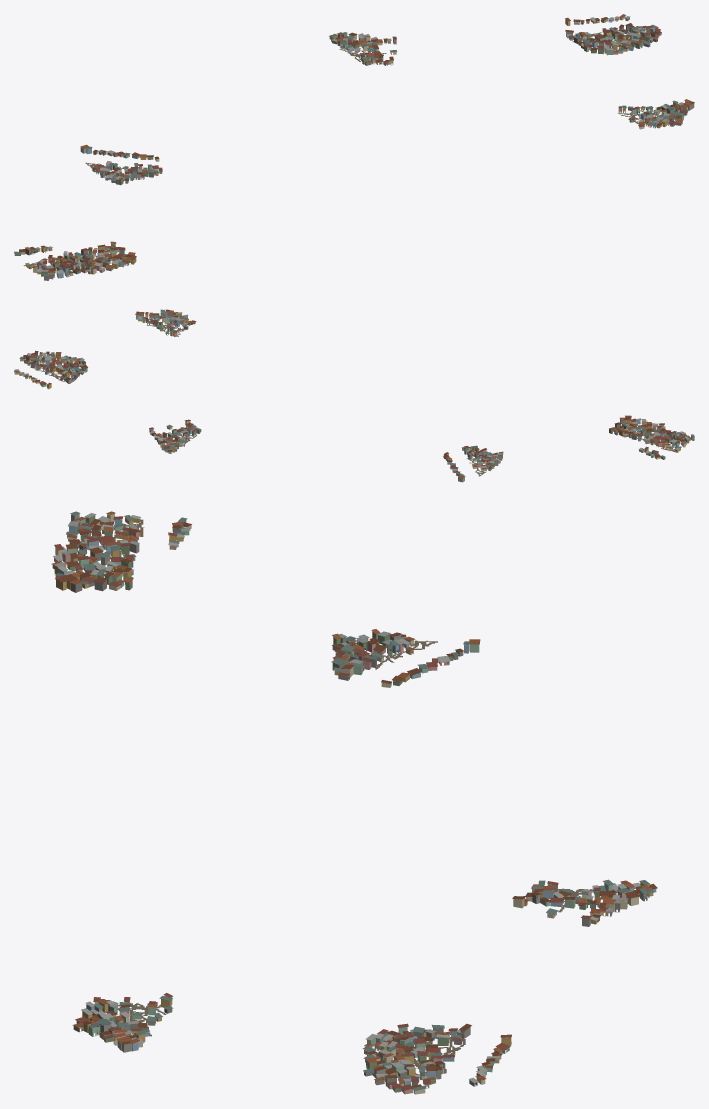
File: banilad_slum.glb
3 views of the same model, one above another, from view 1: azimuth 30°, elevation 25°; view 2: azimuth 150°, elevation 25°; view 3: azimuth 270°, elevation 25° (orthographic). The views are drawn at different scales.
Parts seen in each view (by area): view 1: Slum_Roofs, Slum_Walls-col; view 2: Slum_Roofs, Slum_Walls-col, Slum_Ground; view 3: Slum_Roofs, Slum_Walls-col, Slum_Ground.
Boxes of the visible parts, x1,y1,x2,y2 form: Slum_Roofs: (14, 14, 694, 276); Slum_Walls-col: (14, 16, 694, 280); Slum_Roofs: (14, 309, 694, 478); Slum_Walls-col: (14, 311, 694, 482); Slum_Ground: (35, 322, 681, 476); Slum_Roofs: (51, 511, 657, 1090); Slum_Walls-col: (52, 513, 656, 1094); Slum_Ground: (67, 519, 592, 1075).
Bounding box in the file's own units: 657 × 5.14 × 293.
Materials: 16 (1 with a texture image).
